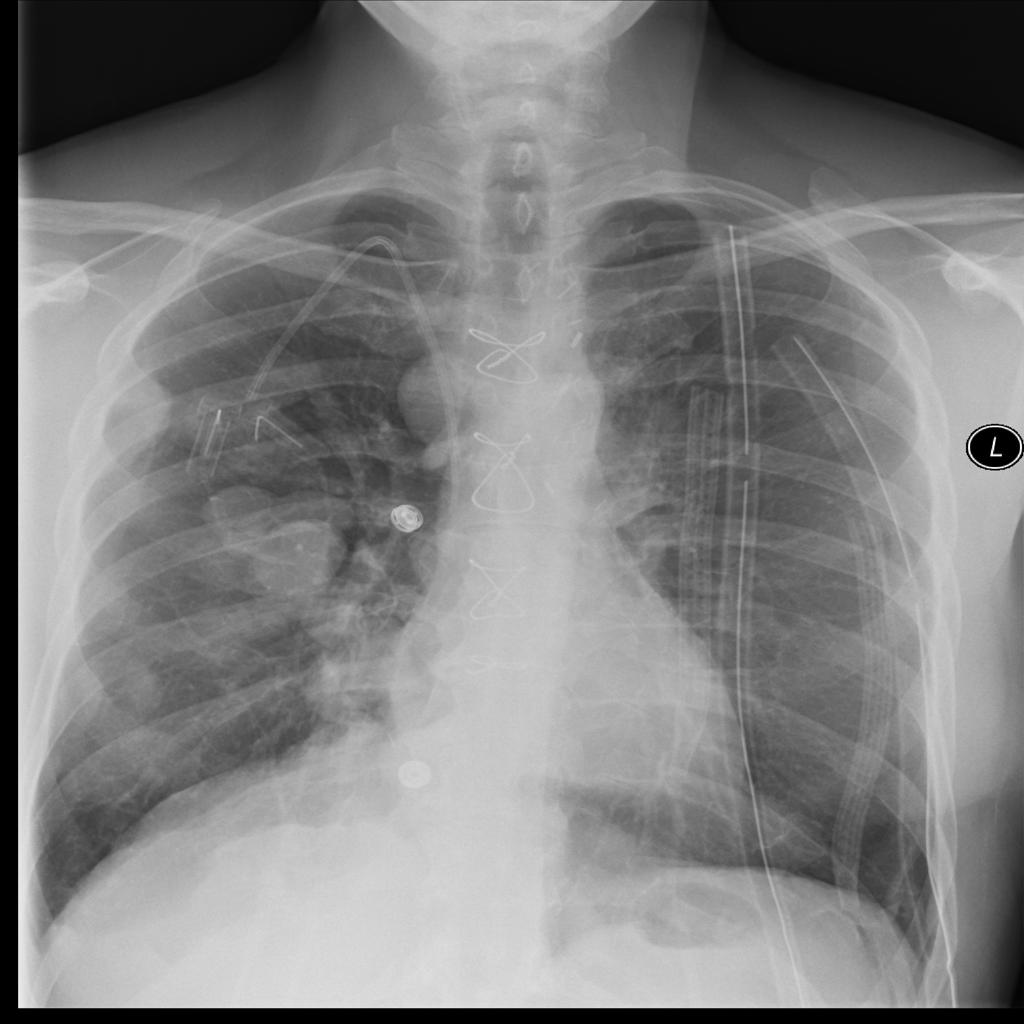nodule: (249, 517, 355, 611), (193, 478, 285, 553), (104, 647, 177, 723), (306, 585, 367, 651)
